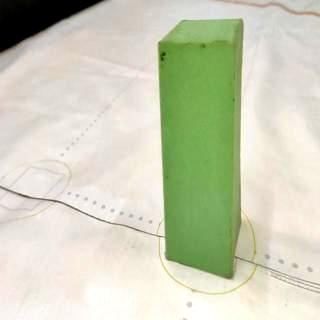greenbox: (157, 18, 245, 277)
